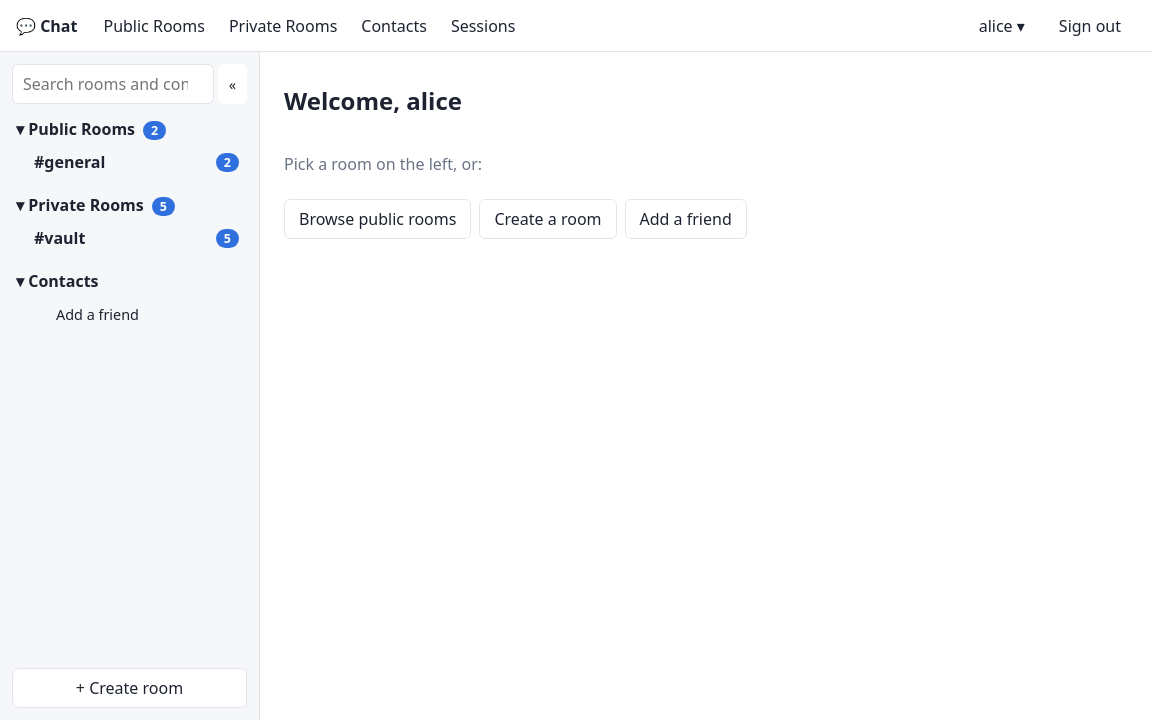
collapsed navigation › keeps section icons with unread badges
Expected: the link "#general 2" is shown, [12,146,247,178]
Click the button named "Collapse navigation" at (232, 84), box [218,64,247,104]
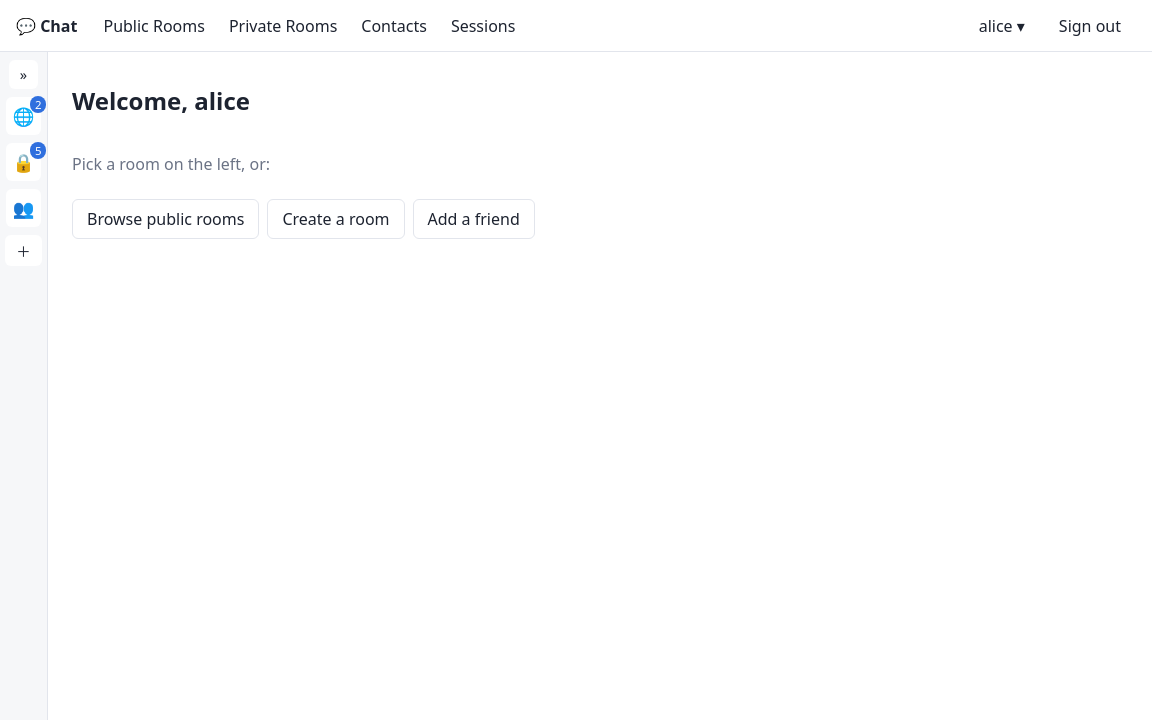
Now the button named "Public Rooms, 2 unread" shows "2", box [6,97,42,135]
Now the button named "Private Rooms, 5 unread" is shown
Now the button named "Contacts" is shown, box [6,189,42,227]
Click the button named "Private Rooms, 5 unread" at (24, 162), box [6,143,42,181]
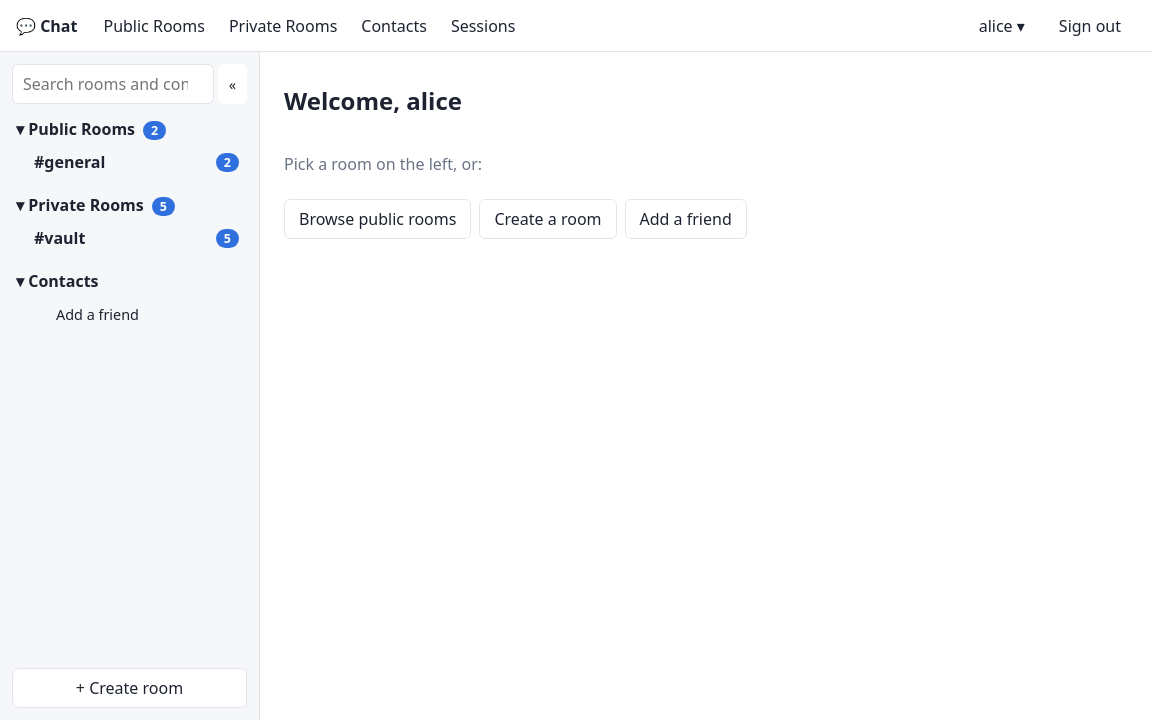
Now the link "#vault 5" is shown, box [12,222,247,254]
